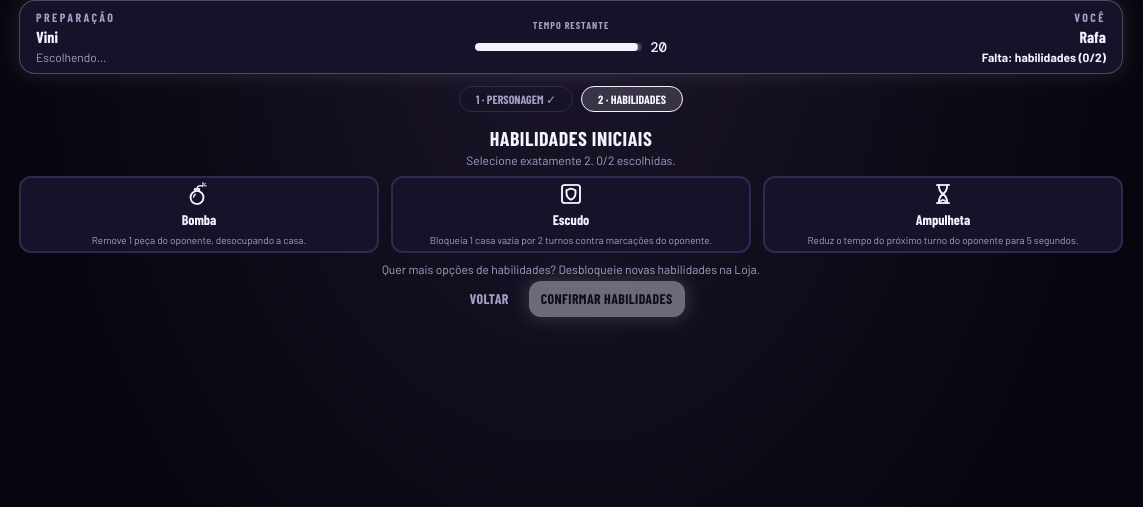
Preparação: guiar o jogador pelas 2 etapas › nos 8s finais avisa o que falta e leva às habilidades
Click the button "1 · Personagem ✓": point(516, 99) [459,86,573,112]
Wait 12500 ms
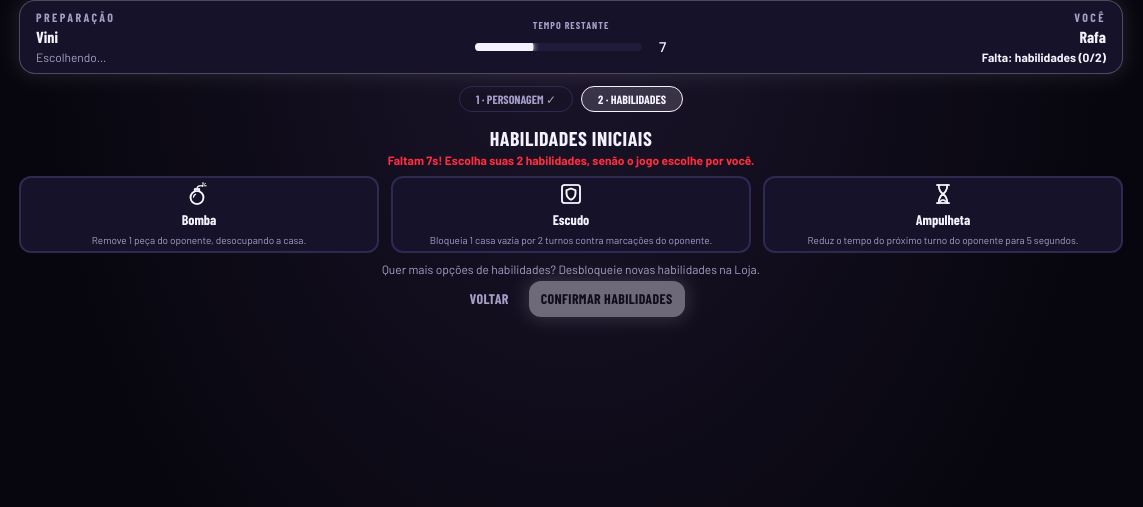
Expected: the heading "Habilidades iniciais" is shown, [490,126,652,150]
Expected: the message reads "Faltam 7s! Escolha suas 2 habilidades, senão o jogo escolhe por você.", [388,153,754,167]
